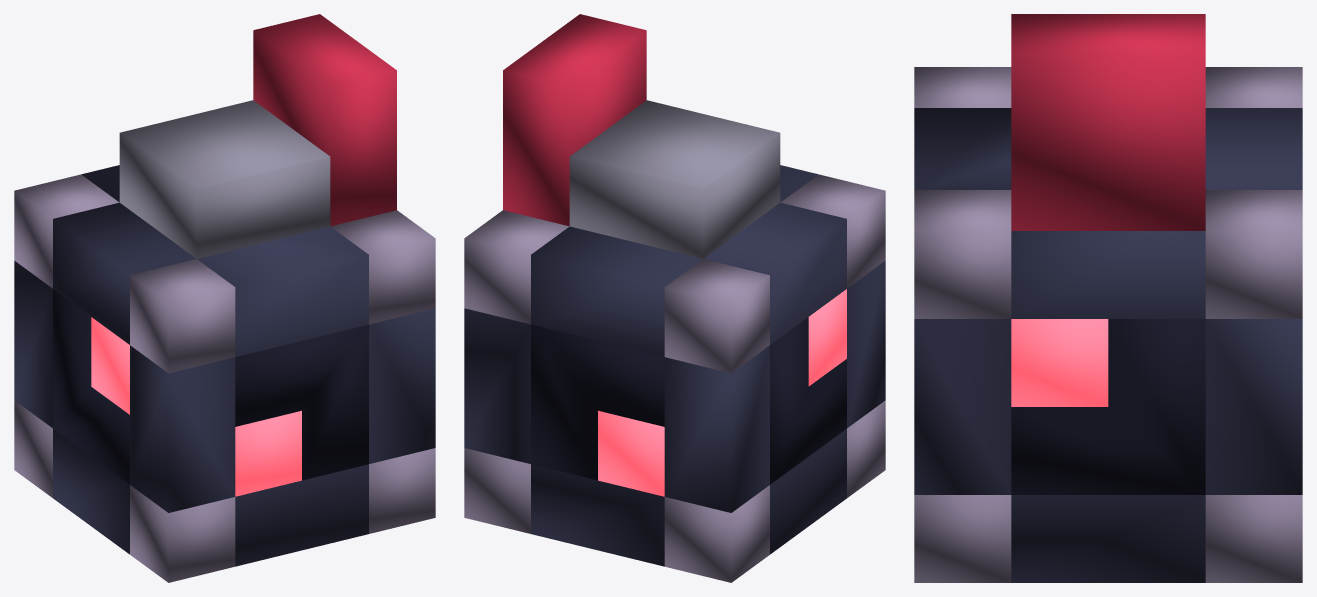
The model's file is grenade.lod1.glb.
The picture shows the model from 3 angles, left to right: view 1: azimuth 30°, elevation 25°; view 2: azimuth 150°, elevation 25°; view 3: azimuth 270°, elevation 25°; orthographic projection. The views are drawn at different scales.
Visible parts, largest first — view 1: grenade.body, part.pin; view 2: grenade.body, part.pin; view 3: grenade.body, part.pin.
Boxes of the visible parts, x1=… form: grenade.body: x1=14, y1=165, x2=435, y2=582; part.pin: x1=119, y1=14, x2=396, y2=258; grenade.body: x1=464, y1=165, x2=885, y2=582; part.pin: x1=503, y1=14, x2=780, y2=258; grenade.body: x1=914, y1=67, x2=1302, y2=582; part.pin: x1=1011, y1=14, x2=1205, y2=230.
Bounding box in the file's own units: 0.125 × 0.1875 × 0.125.
